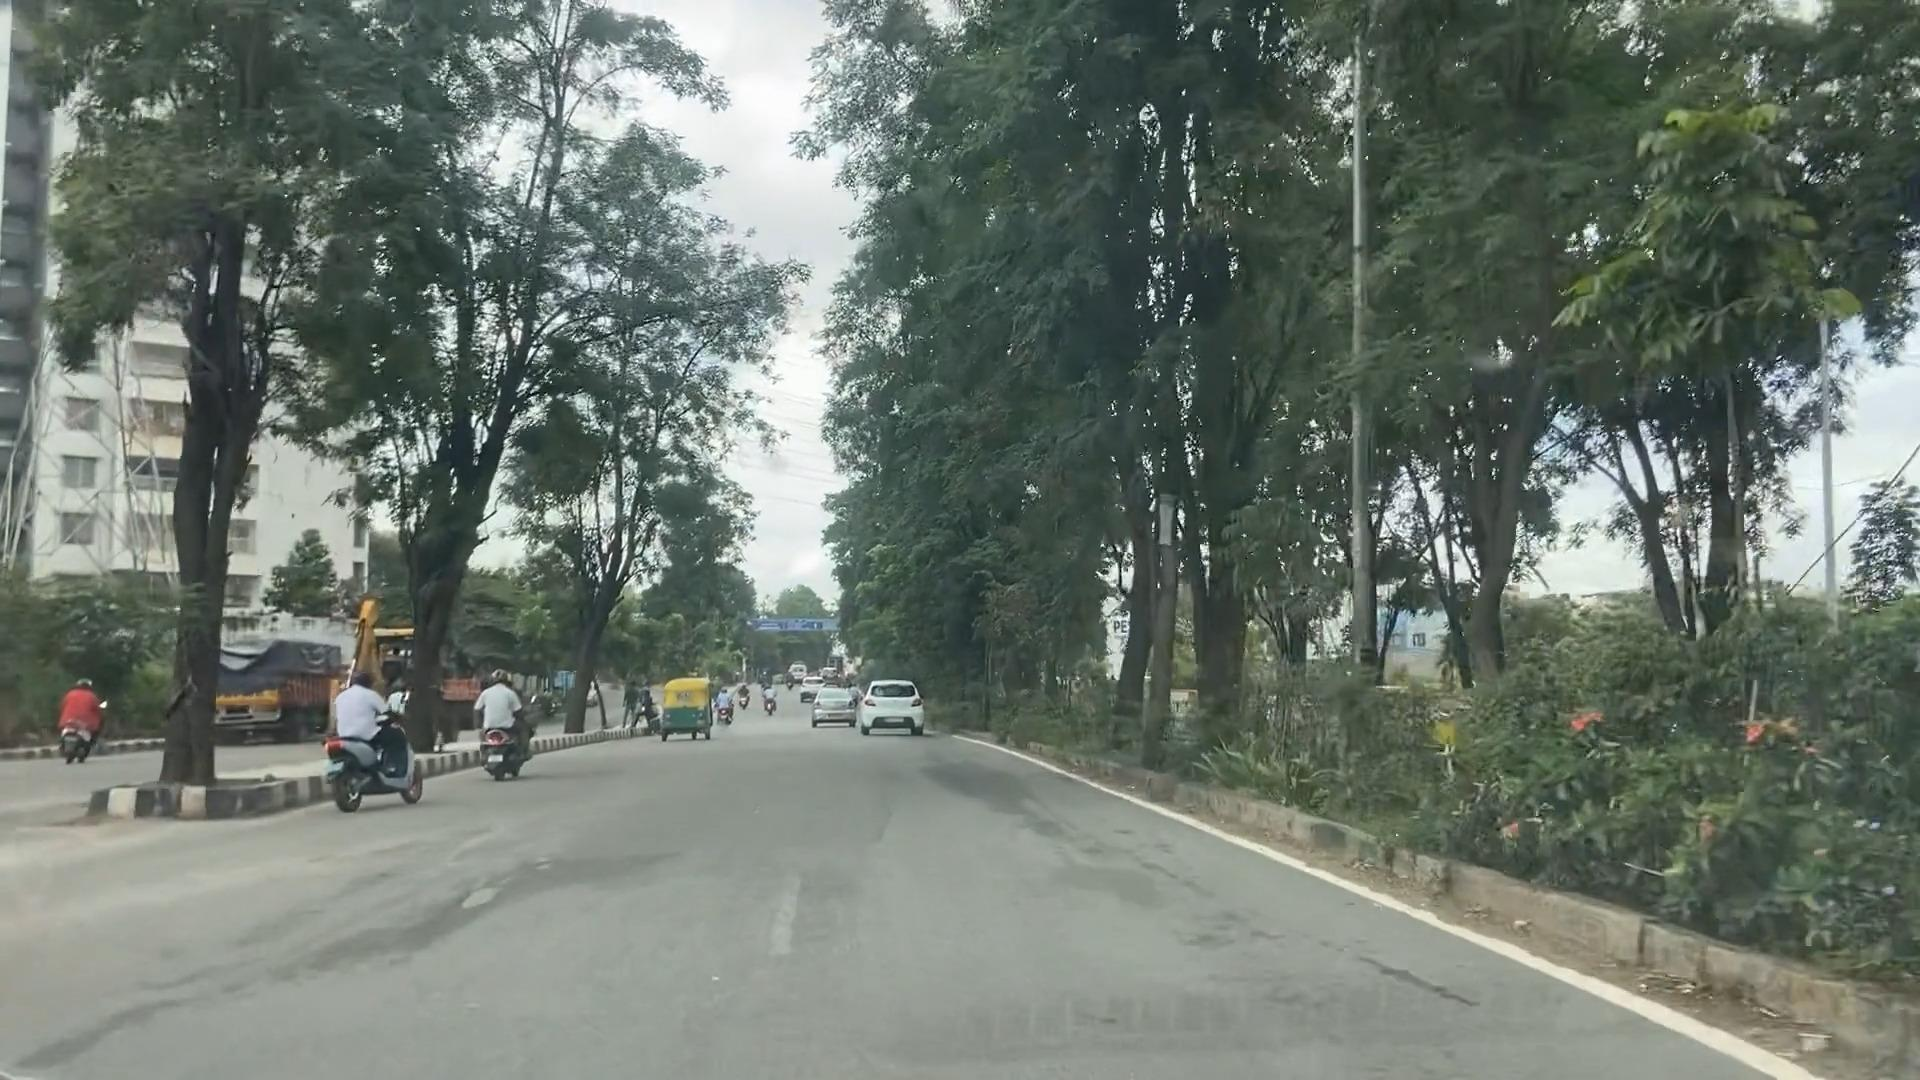LMV: (334, 673, 418, 803), (477, 662, 521, 771), (658, 676, 716, 737), (866, 676, 911, 727), (816, 682, 852, 728)
RoadDamages: (1196, 920, 1360, 988), (942, 750, 1054, 832), (318, 894, 433, 971), (550, 836, 642, 902), (1087, 848, 1196, 902), (452, 868, 538, 926), (1370, 967, 1491, 1000)
